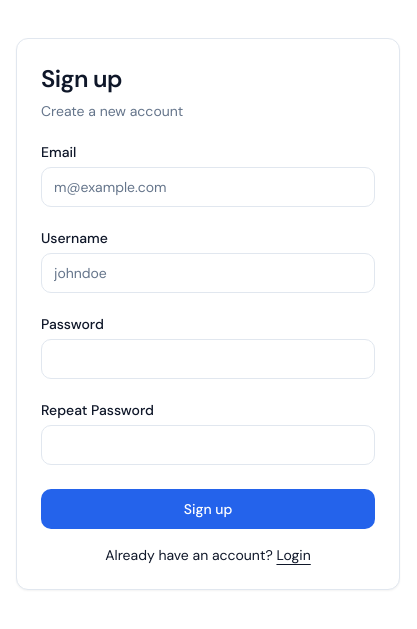
Test: SignUpPage › shows error when passwords do not match
The width and height of the screenshot is (417, 629).
Type "test@example.com" into the field labelled "Email" at (208, 187), box [41,167,375,207]
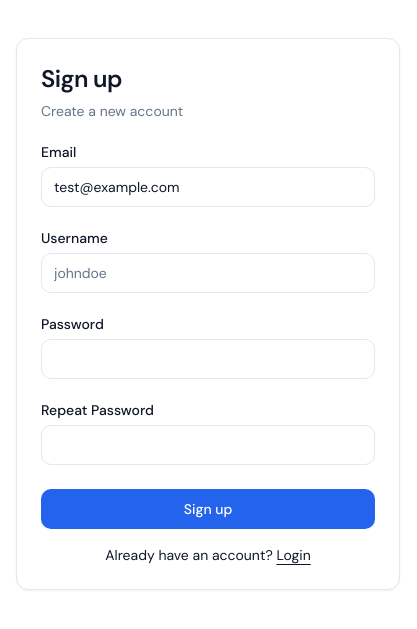
Type "testuser" into the field labelled "Username" at (208, 273), box [41,253,375,293]
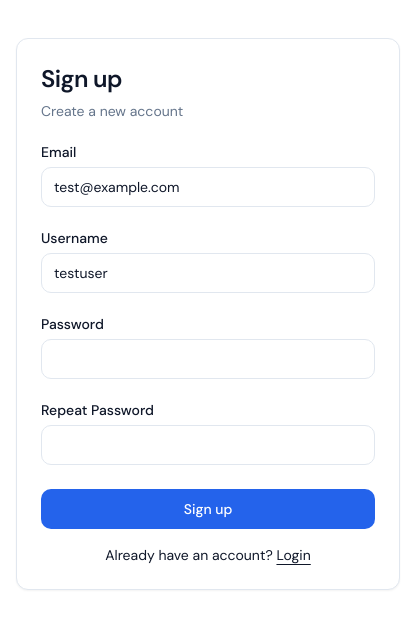
Type "password123" into the password field labelled "Password" at (208, 359), box [41,339,375,379]
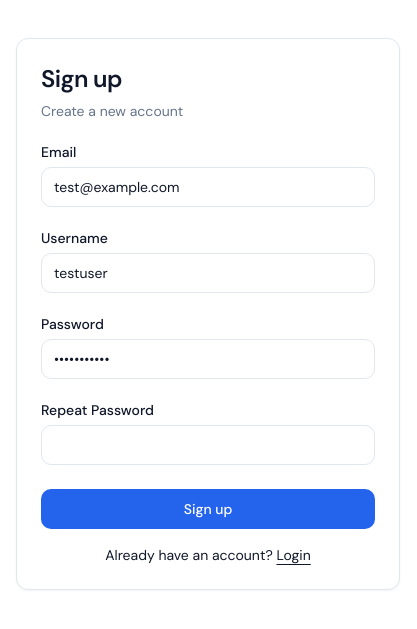
Type "differentpassword" into the password field labelled "Repeat Password" at (208, 445), box [41,425,375,465]
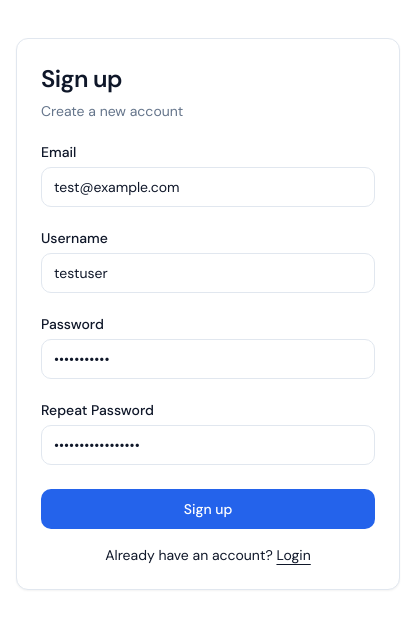
Click the button "Sign up" at (208, 509), box [41,489,375,529]
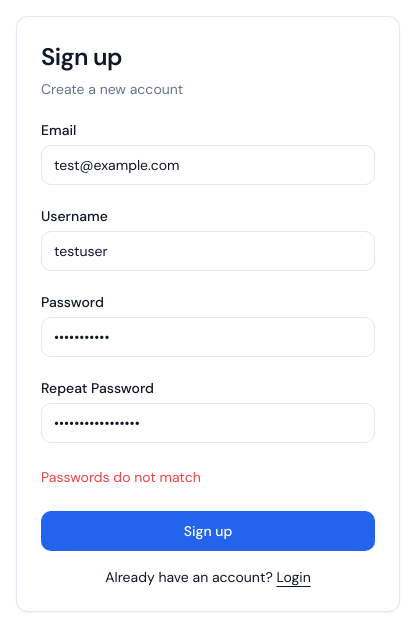
Now the text "Passwords do not match" is shown, box [41,468,201,486]
